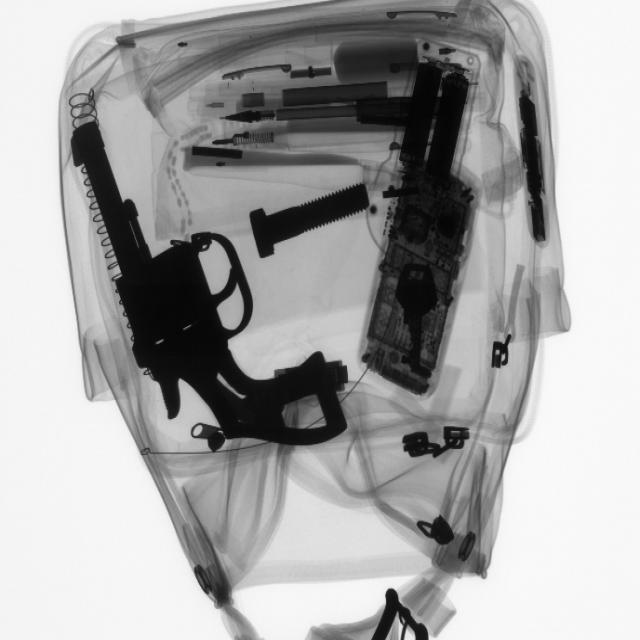GUN: (70, 120, 354, 459)
